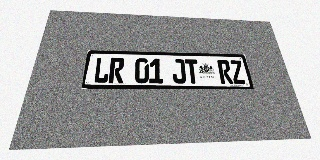0: (135, 58, 149, 83)
1: (149, 58, 163, 83)
J: (171, 59, 186, 84)
L: (93, 57, 110, 83)
R: (108, 58, 125, 83), (217, 60, 234, 84)
T: (185, 59, 200, 84)
Z: (229, 60, 246, 84)
